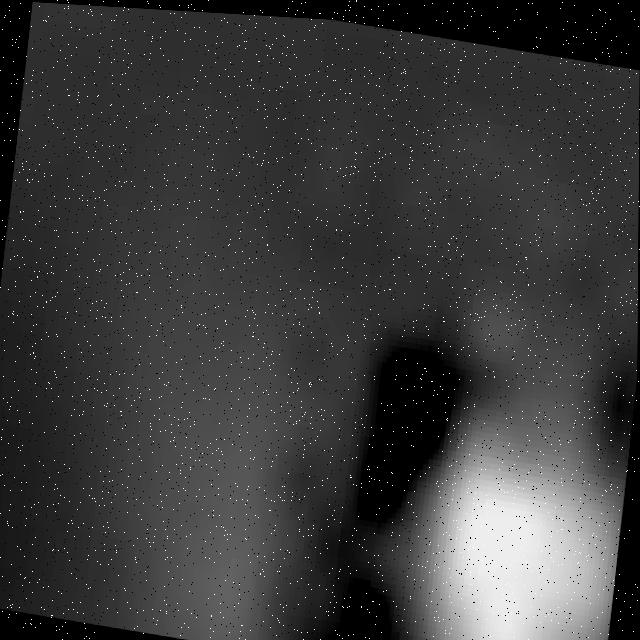person: (401, 258, 640, 640)
